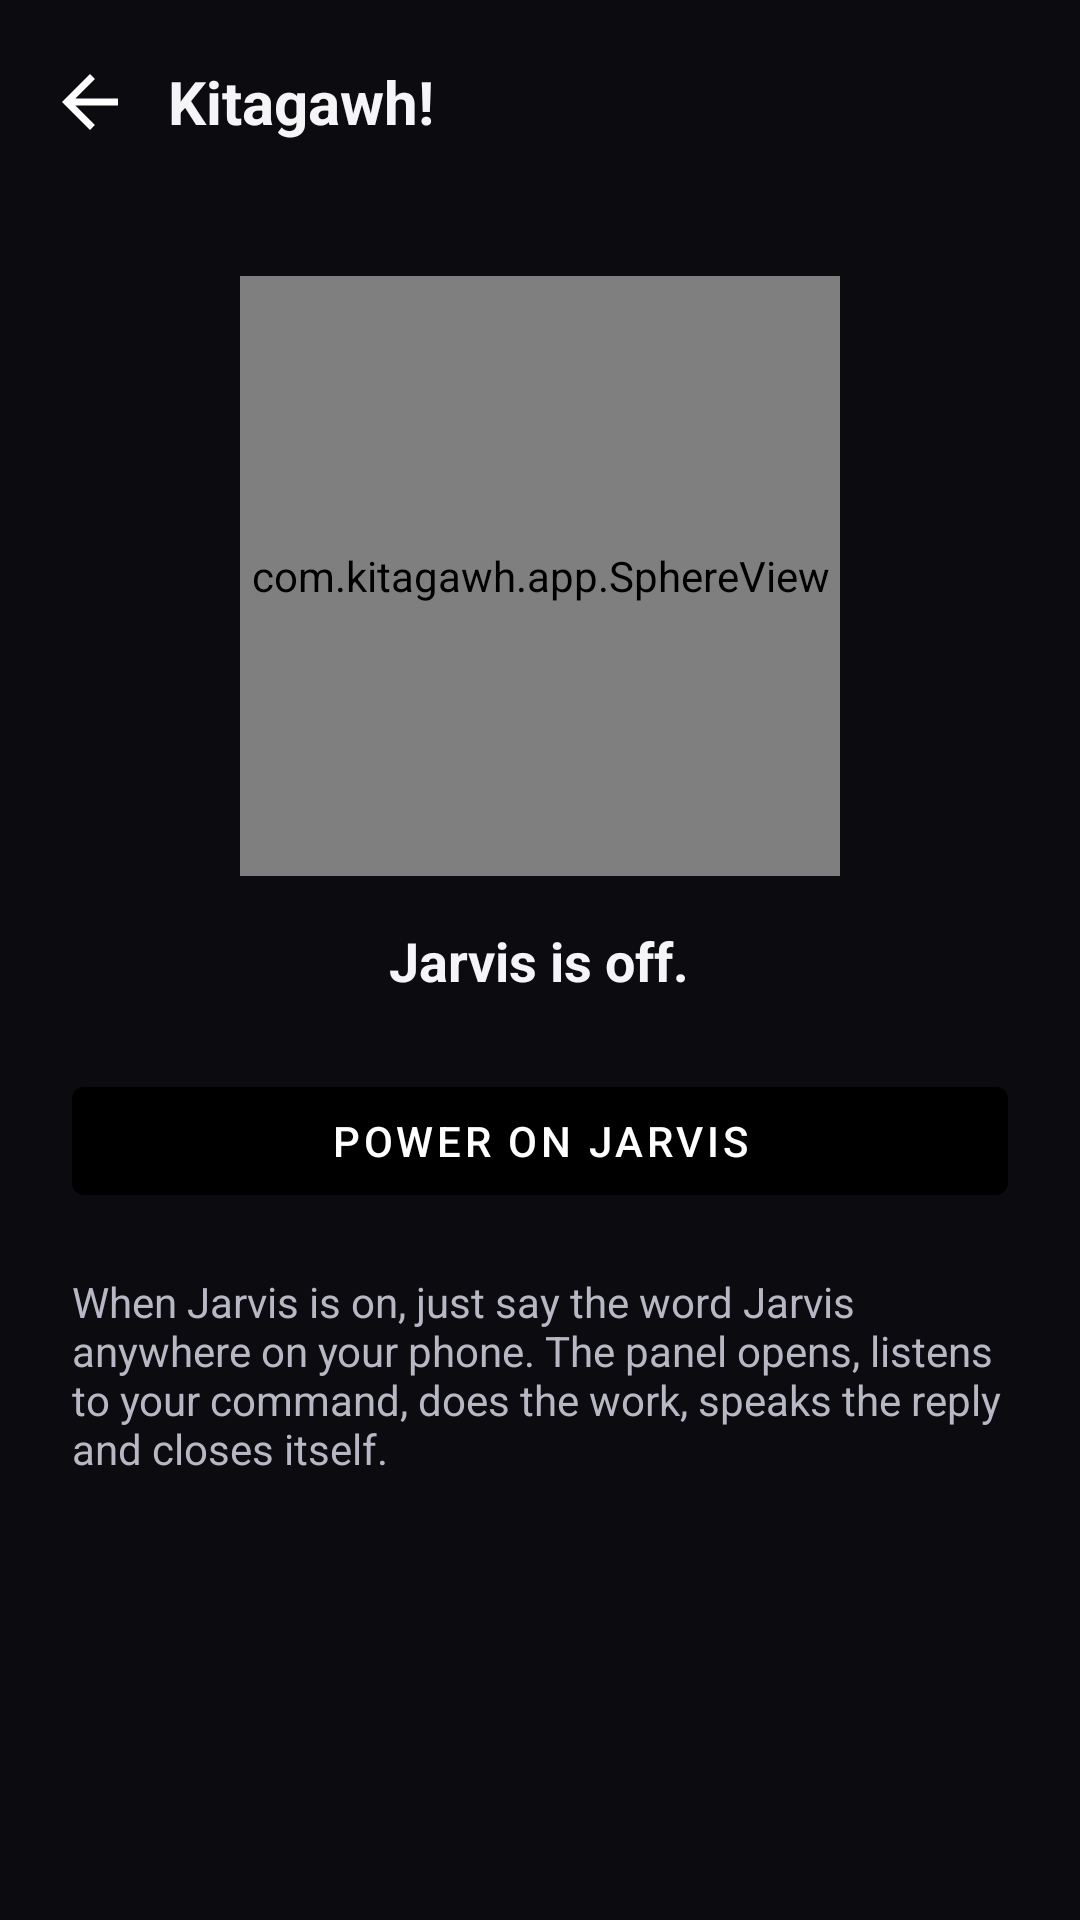

Icon bounding boxes for this 1080w x 1920h phone screenshot, format (x1, y1, x2, y2):
Back: (62, 74, 118, 130)
